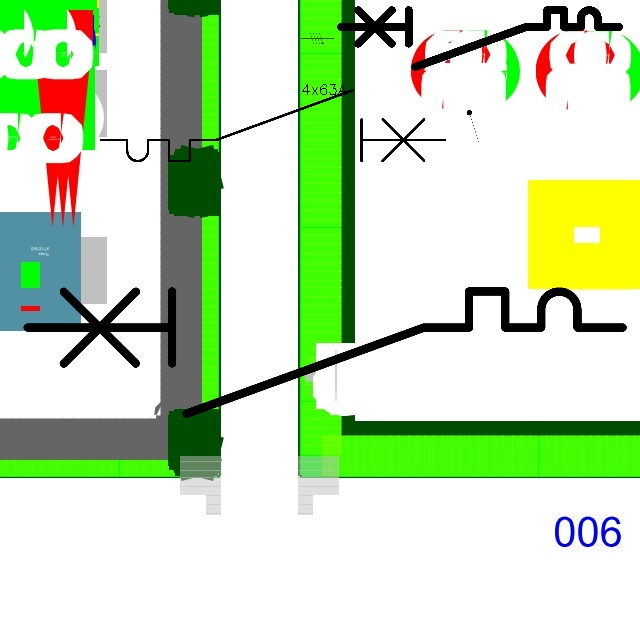interruptor_termomagnetico: (12, 276, 638, 429), (92, 81, 454, 170), (334, 3, 626, 74)
